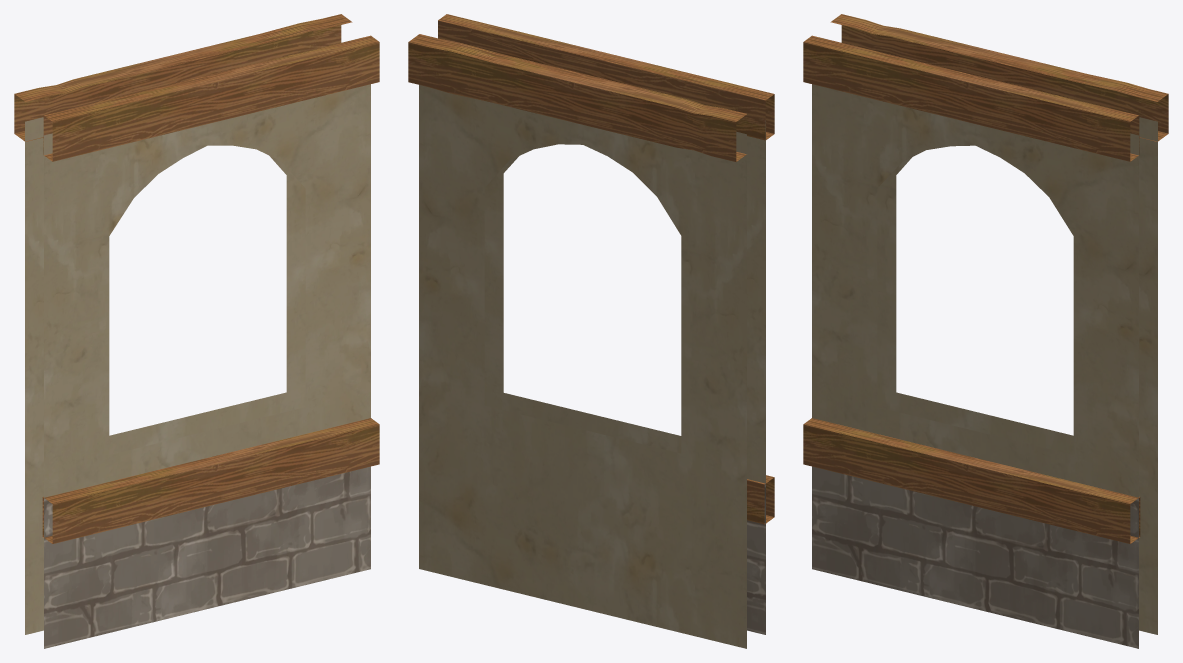
Rendered from Wall_Plaster_Window_Wide_Round.gltf.
The picture shows the model from 3 angles, left to right: view 1: azimuth 30°, elevation 25°; view 2: azimuth 150°, elevation 25°; view 3: azimuth 330°, elevation 25°; orthographic projection.
Visible parts, largest first — view 1: Wall_Plaster_Window_Wide_Round; view 2: Wall_Plaster_Window_Wide_Round; view 3: Wall_Plaster_Window_Wide_Round.
Boxes of the visible parts, <box> form: Wall_Plaster_Window_Wide_Round: <box>14,14,379,648</box>; Wall_Plaster_Window_Wide_Round: <box>408,14,774,648</box>; Wall_Plaster_Window_Wide_Round: <box>803,14,1168,648</box>.
Bounding box in the file's own units: 2 × 3.12 × 0.4065.
3 materials, 3 textured.
